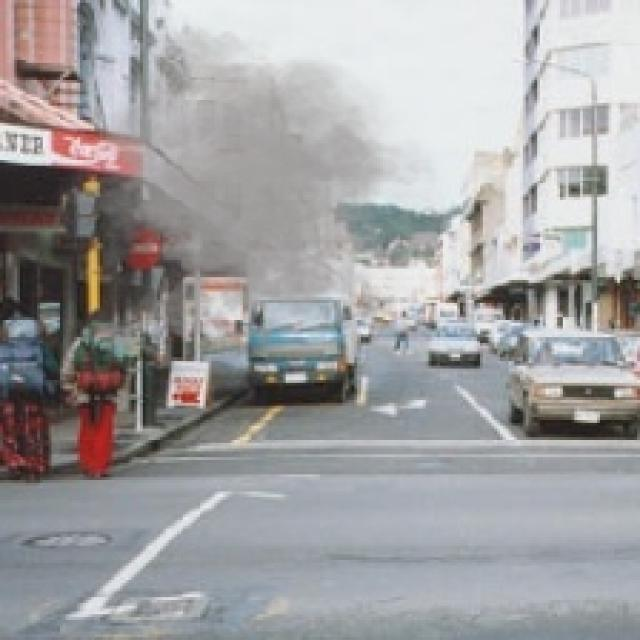smoke: (34, 20, 460, 366)
